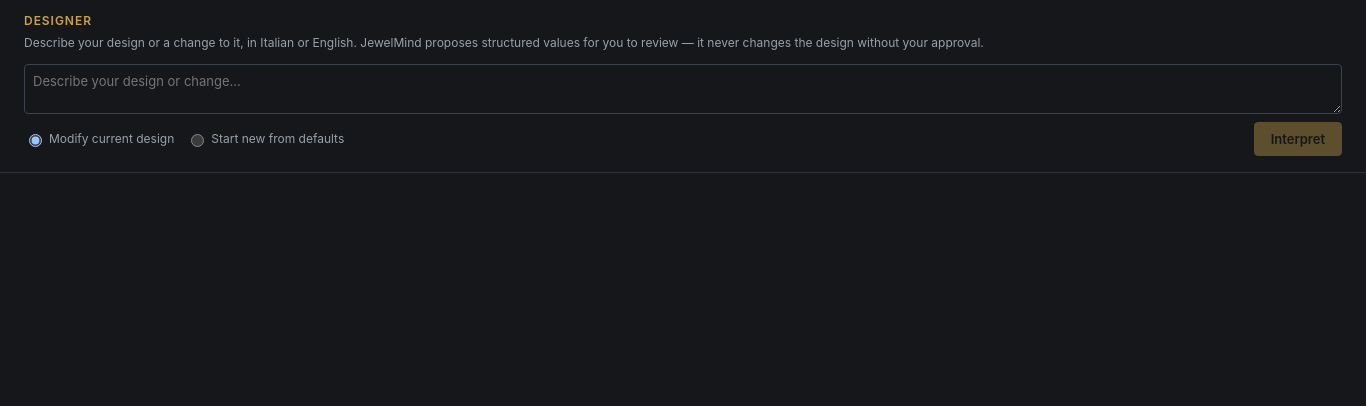
Test: DesignerPanel › surfaces unsupported features without silently dropping them
Type "Fammi un halo." into the text box with placeholder "Describe your design or change…" at (683, 89), box 24,64 -> 1342,114
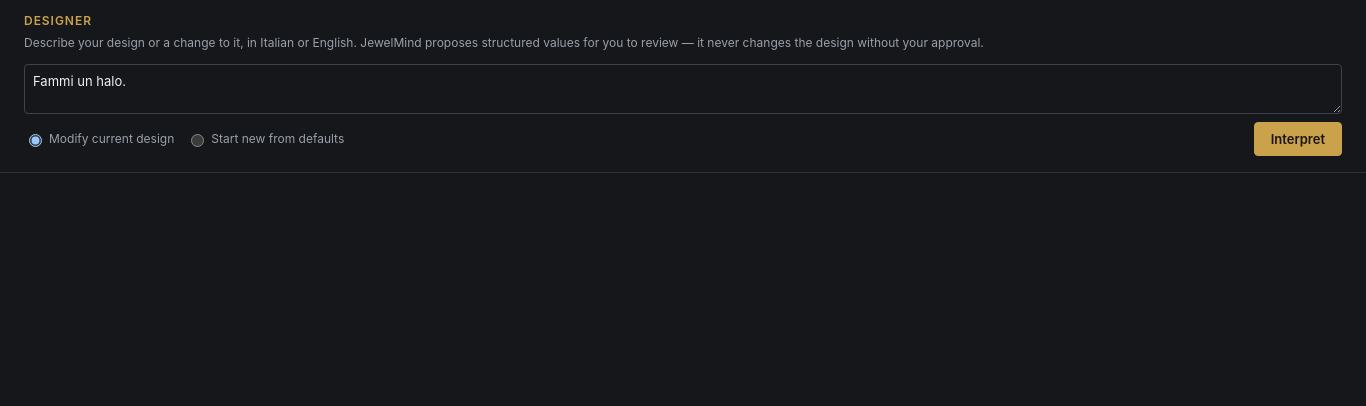
Click the button "Interpret" at (1298, 139), box 1254,122 -> 1342,156
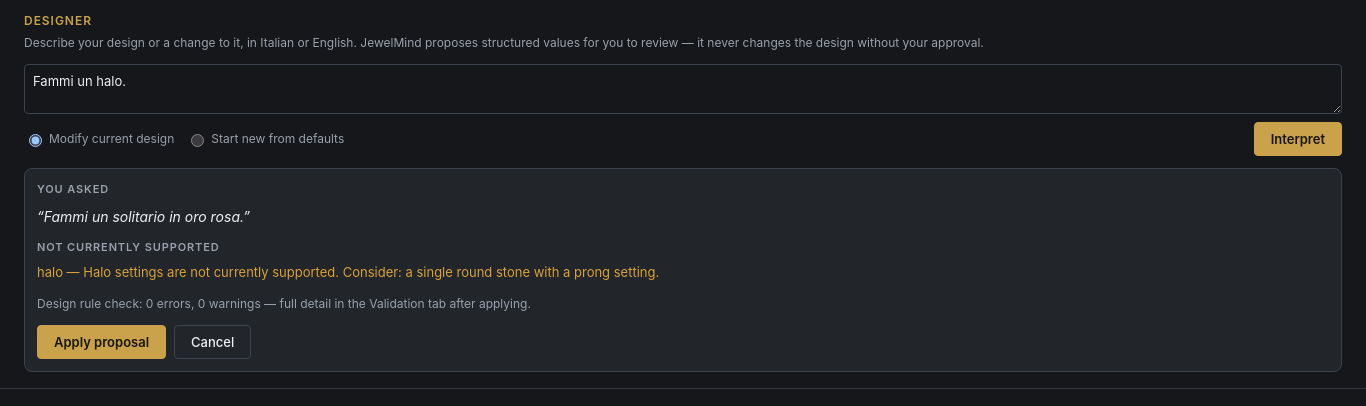
Check: the heading "Not currently supported" is shown, box 37,240 -> 220,254
Check: the list item "halo — Halo settings are not currently supported" is shown, box 37,264 -> 659,280
